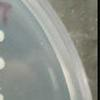white: (0, 56, 7, 72), (0, 30, 5, 43), (0, 92, 6, 100)
